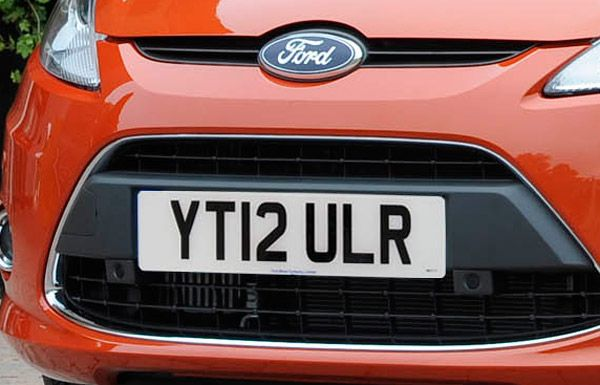plate: (132, 194, 446, 273)
